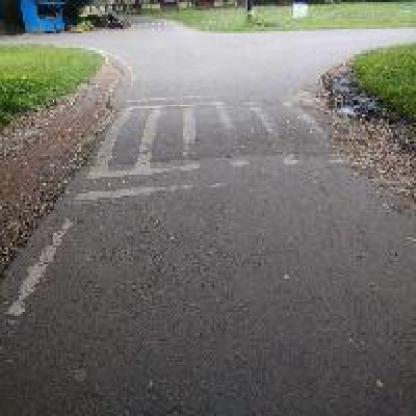Speed Bump: (87, 96, 316, 200)
